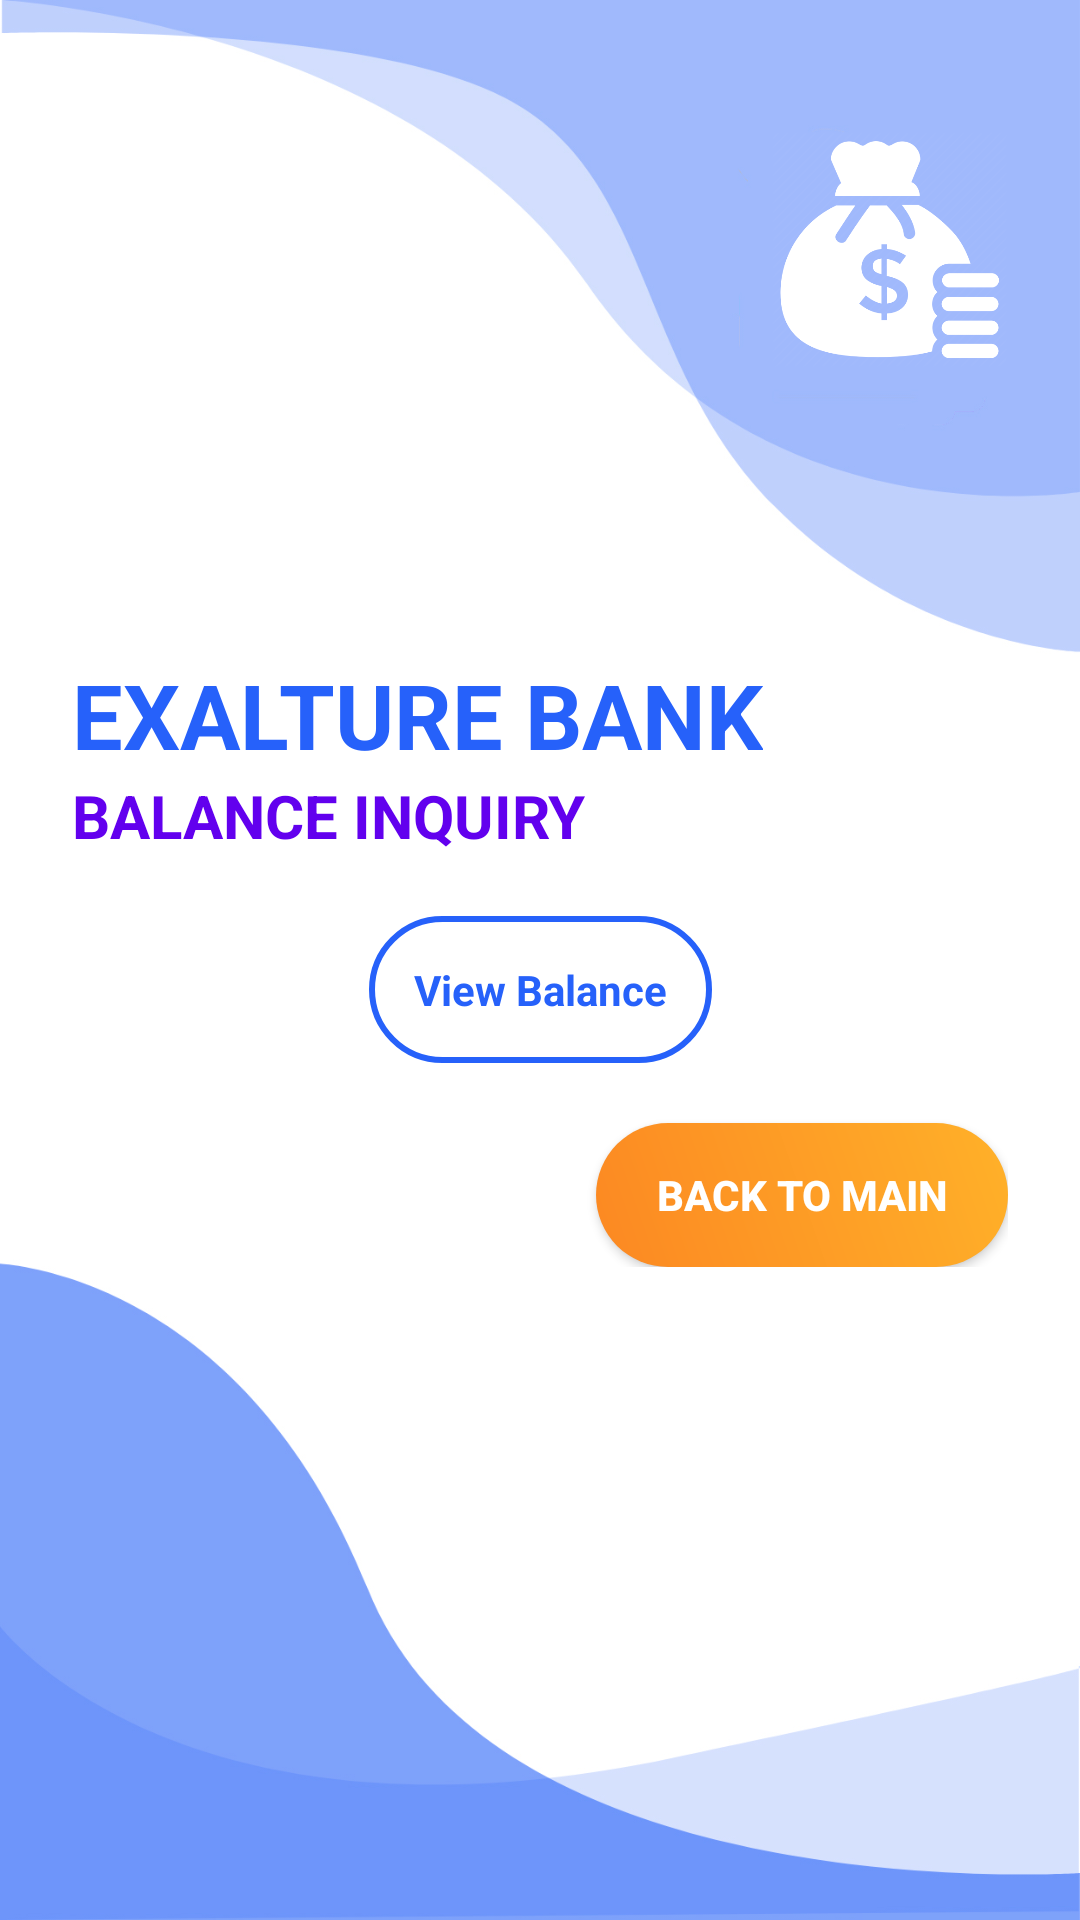

Screen size 1080w x 1920h. Icon name, then its center in pixels as [x,y]:
balance: [889,249]
